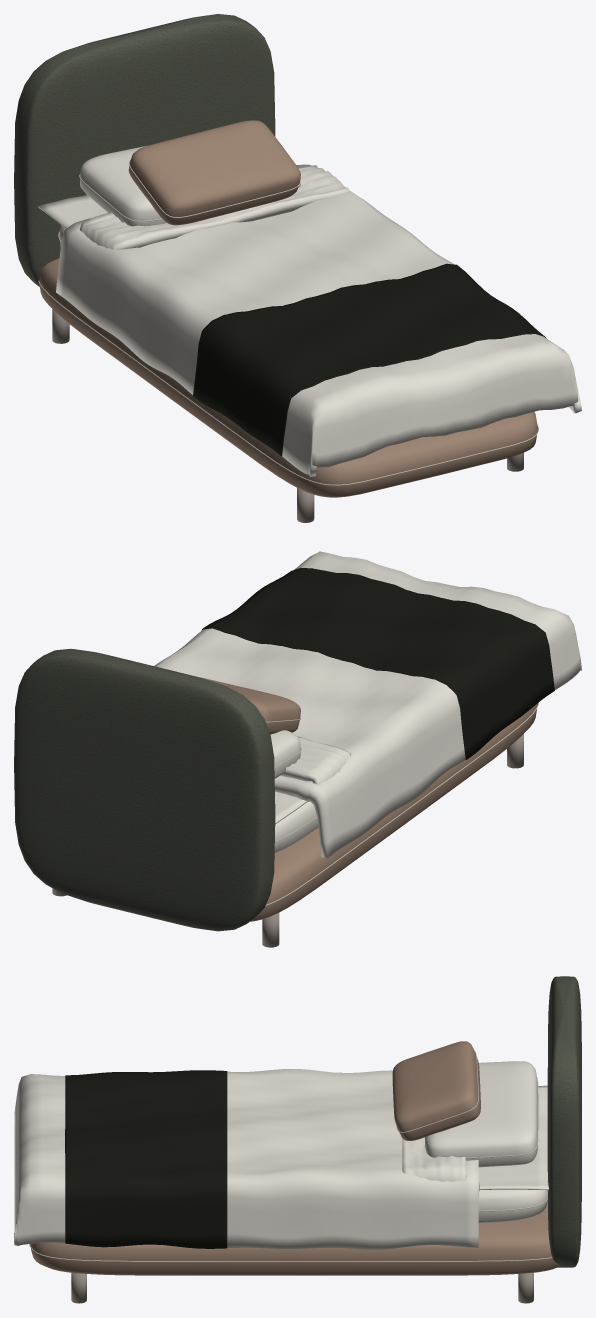
Rendered from modern.single_bed.gltf.
3 views of the same model, one above another, from view 1: azimuth 30°, elevation 25°; view 2: azimuth 150°, elevation 25°; view 3: azimuth 270°, elevation 25° (orthographic). The views are drawn at different scales.
Parts seen in each view (by area): view 1: modern.single_bed.foot; view 2: modern.single_bed.foot; view 3: modern.single_bed.foot.
Part boxes in pixels (left/top/right/bottom): modern.single_bed.foot: left=14, top=14, right=581, bottom=522; modern.single_bed.foot: left=14, top=551, right=581, bottom=947; modern.single_bed.foot: left=14, top=976, right=581, bottom=1303.
Bounding box in the file's own units: 1.09 × 1.02 × 2.16.
6 materials, 4 textured.
